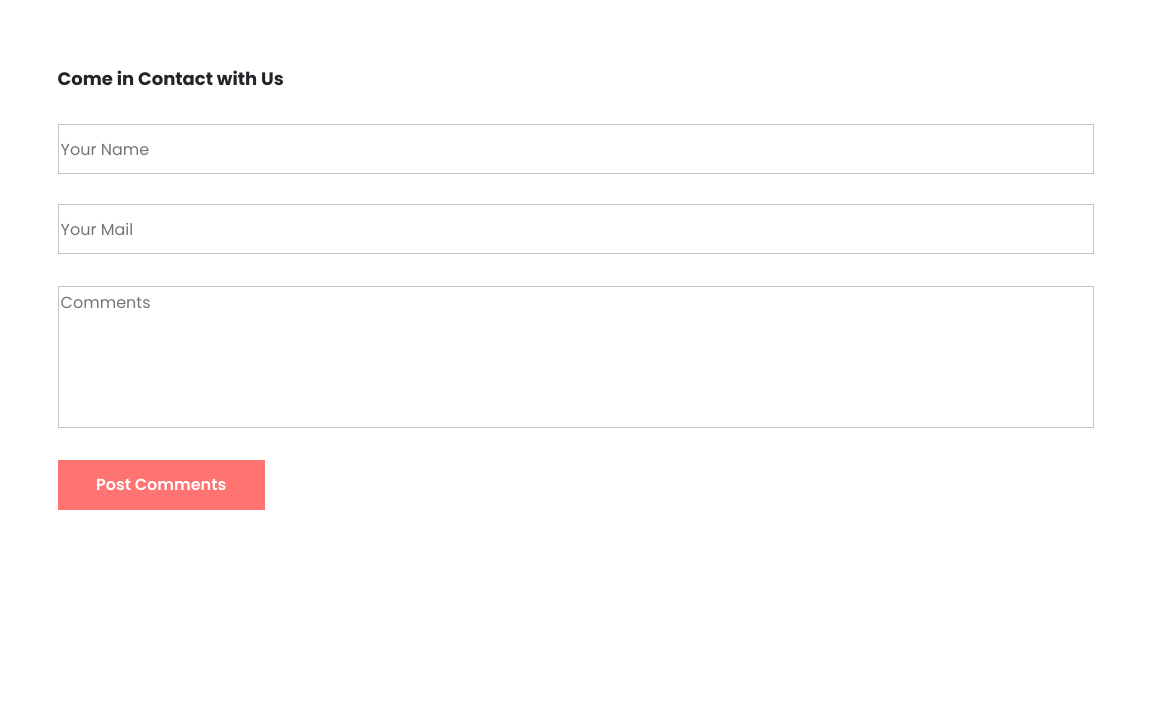
Test: ContactUsForm › will display error if user tries to submit without entering correct input
Note: find submitbutton and press it
Step 1. Click the button → (161, 485), box [58, 460, 265, 510]
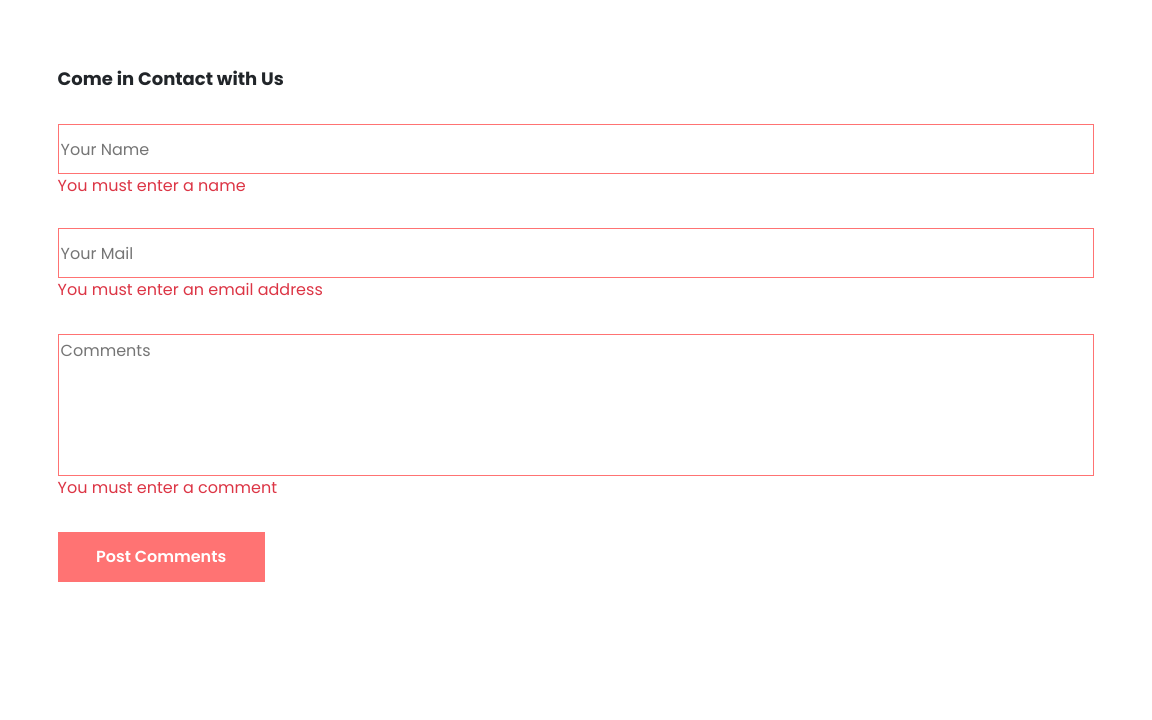
Result: the text with test id "commentsError" reads "You must enter a comment" at [58, 476, 277, 499]
